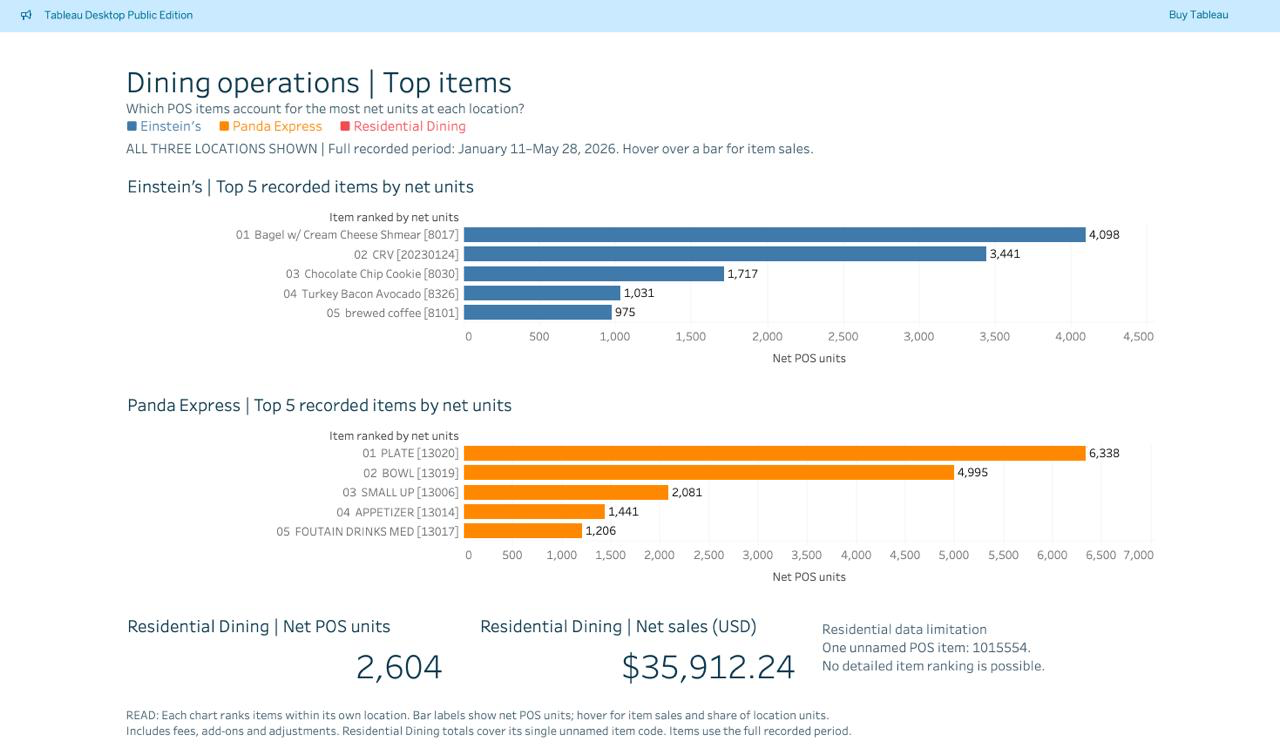

What the dashboard file says about the page in this screenshot:
{"tool":"tableau","page":{"name":"03 Top items","canvas":[1200,780],"ordinal":2},"visuals":[{"type":"text","box":[24.4,9.2,1151.3,40.4]},{"type":"text","box":[24.4,49.6,1151.3,19.3]},{"type":"text","box":[24.4,68.8,1151.3,19.3]},{"type":"text","box":[24.4,93.6,1151.3,22]},{"type":"worksheet","title":"03 Top item units","mark":"Bar","rows":["RankLabel"],"cols":["Units"],"box":[16.9,122,1166.3,241.3]},{"type":"worksheet","title":"03 Panda item units","mark":"Bar","rows":["RankLabel"],"cols":["Units"],"box":[16.9,367.1,1166.3,241.3]},{"type":"worksheet","title":"03 Residential units","mark":"Text","box":[16.9,615.7,375,99.1]},{"type":"worksheet","title":"03 Residential sales","mark":"Text","box":[410.6,615.7,375,99.1]},{"type":"text","box":[801.6,620.3,370.3,90.8]},{"type":"text","box":[24.4,727.7,1151.3,45]}]}

Visuals, with their boxes on the page's 1200x780 design canvas (x1, y1, x2, y2). These are canvas units, not pixel positions in the 1280x755 screenshot, which may show the page scaled, cropped or inside an application window:
text: box(24, 9, 1176, 50)
text: box(24, 50, 1176, 69)
text: box(24, 69, 1176, 88)
text: box(24, 94, 1176, 116)
"03 Top item units" worksheet (Bar marks): box(17, 122, 1183, 363)
"03 Panda item units" worksheet (Bar marks): box(17, 367, 1183, 608)
"03 Residential units" worksheet (Text marks): box(17, 616, 392, 715)
"03 Residential sales" worksheet (Text marks): box(411, 616, 786, 715)
text: box(802, 620, 1172, 711)
text: box(24, 728, 1176, 773)
